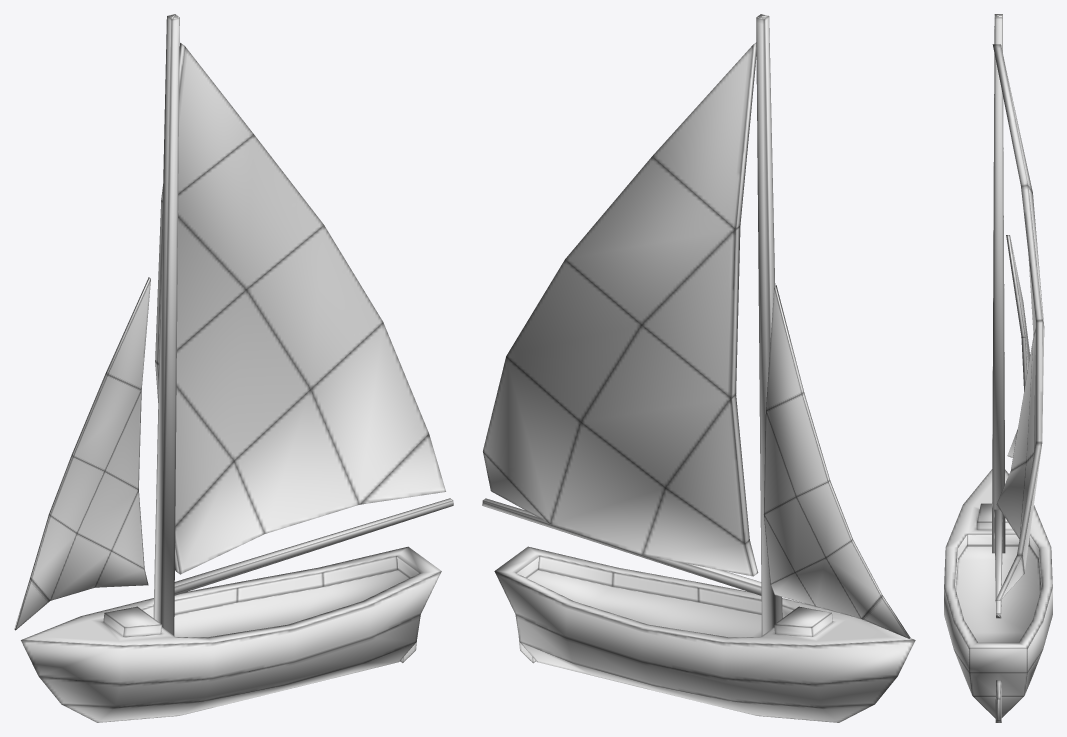
Rendered from Schooner-01.fbx.
The picture shows the model from 3 angles, left to right: view 1: azimuth 30°, elevation 25°; view 2: azimuth 150°, elevation 25°; view 3: azimuth 270°, elevation 25°; orthographic projection. The views are drawn at different scales.
Visible parts, largest first — view 1: Schooner-01Sail-01, Schooner-01, Schooner-01Sail-02, Schooner-01-Mast; view 2: Schooner-01Sail-01, Schooner-01, Schooner-01Sail-02, Schooner-01-Mast; view 3: Schooner-01, Schooner-01Sail-01, Schooner-01-Mast, Schooner-01Sail-02, Schooner-01-Rudder.
Part boxes in pixels (bbox=[...]): Schooner-01Sail-01: bbox=[155, 43, 453, 595]; Schooner-01: bbox=[21, 546, 441, 722]; Schooner-01Sail-02: bbox=[14, 277, 150, 630]; Schooner-01-Mast: bbox=[153, 14, 179, 635]; Schooner-01Sail-01: bbox=[482, 42, 761, 595]; Schooner-01: bbox=[494, 546, 915, 722]; Schooner-01Sail-02: bbox=[764, 285, 910, 638]; Schooner-01-Mast: bbox=[756, 14, 782, 635]; Schooner-01: bbox=[944, 469, 1052, 718]; Schooner-01Sail-01: bbox=[992, 44, 1044, 618]; Schooner-01-Mast: bbox=[992, 14, 1005, 553]; Schooner-01Sail-02: bbox=[1006, 235, 1030, 457]; Schooner-01-Rudder: bbox=[995, 680, 1001, 722].
Size of the model in its own units: 1.07 by 1.66 by 0.2676.
